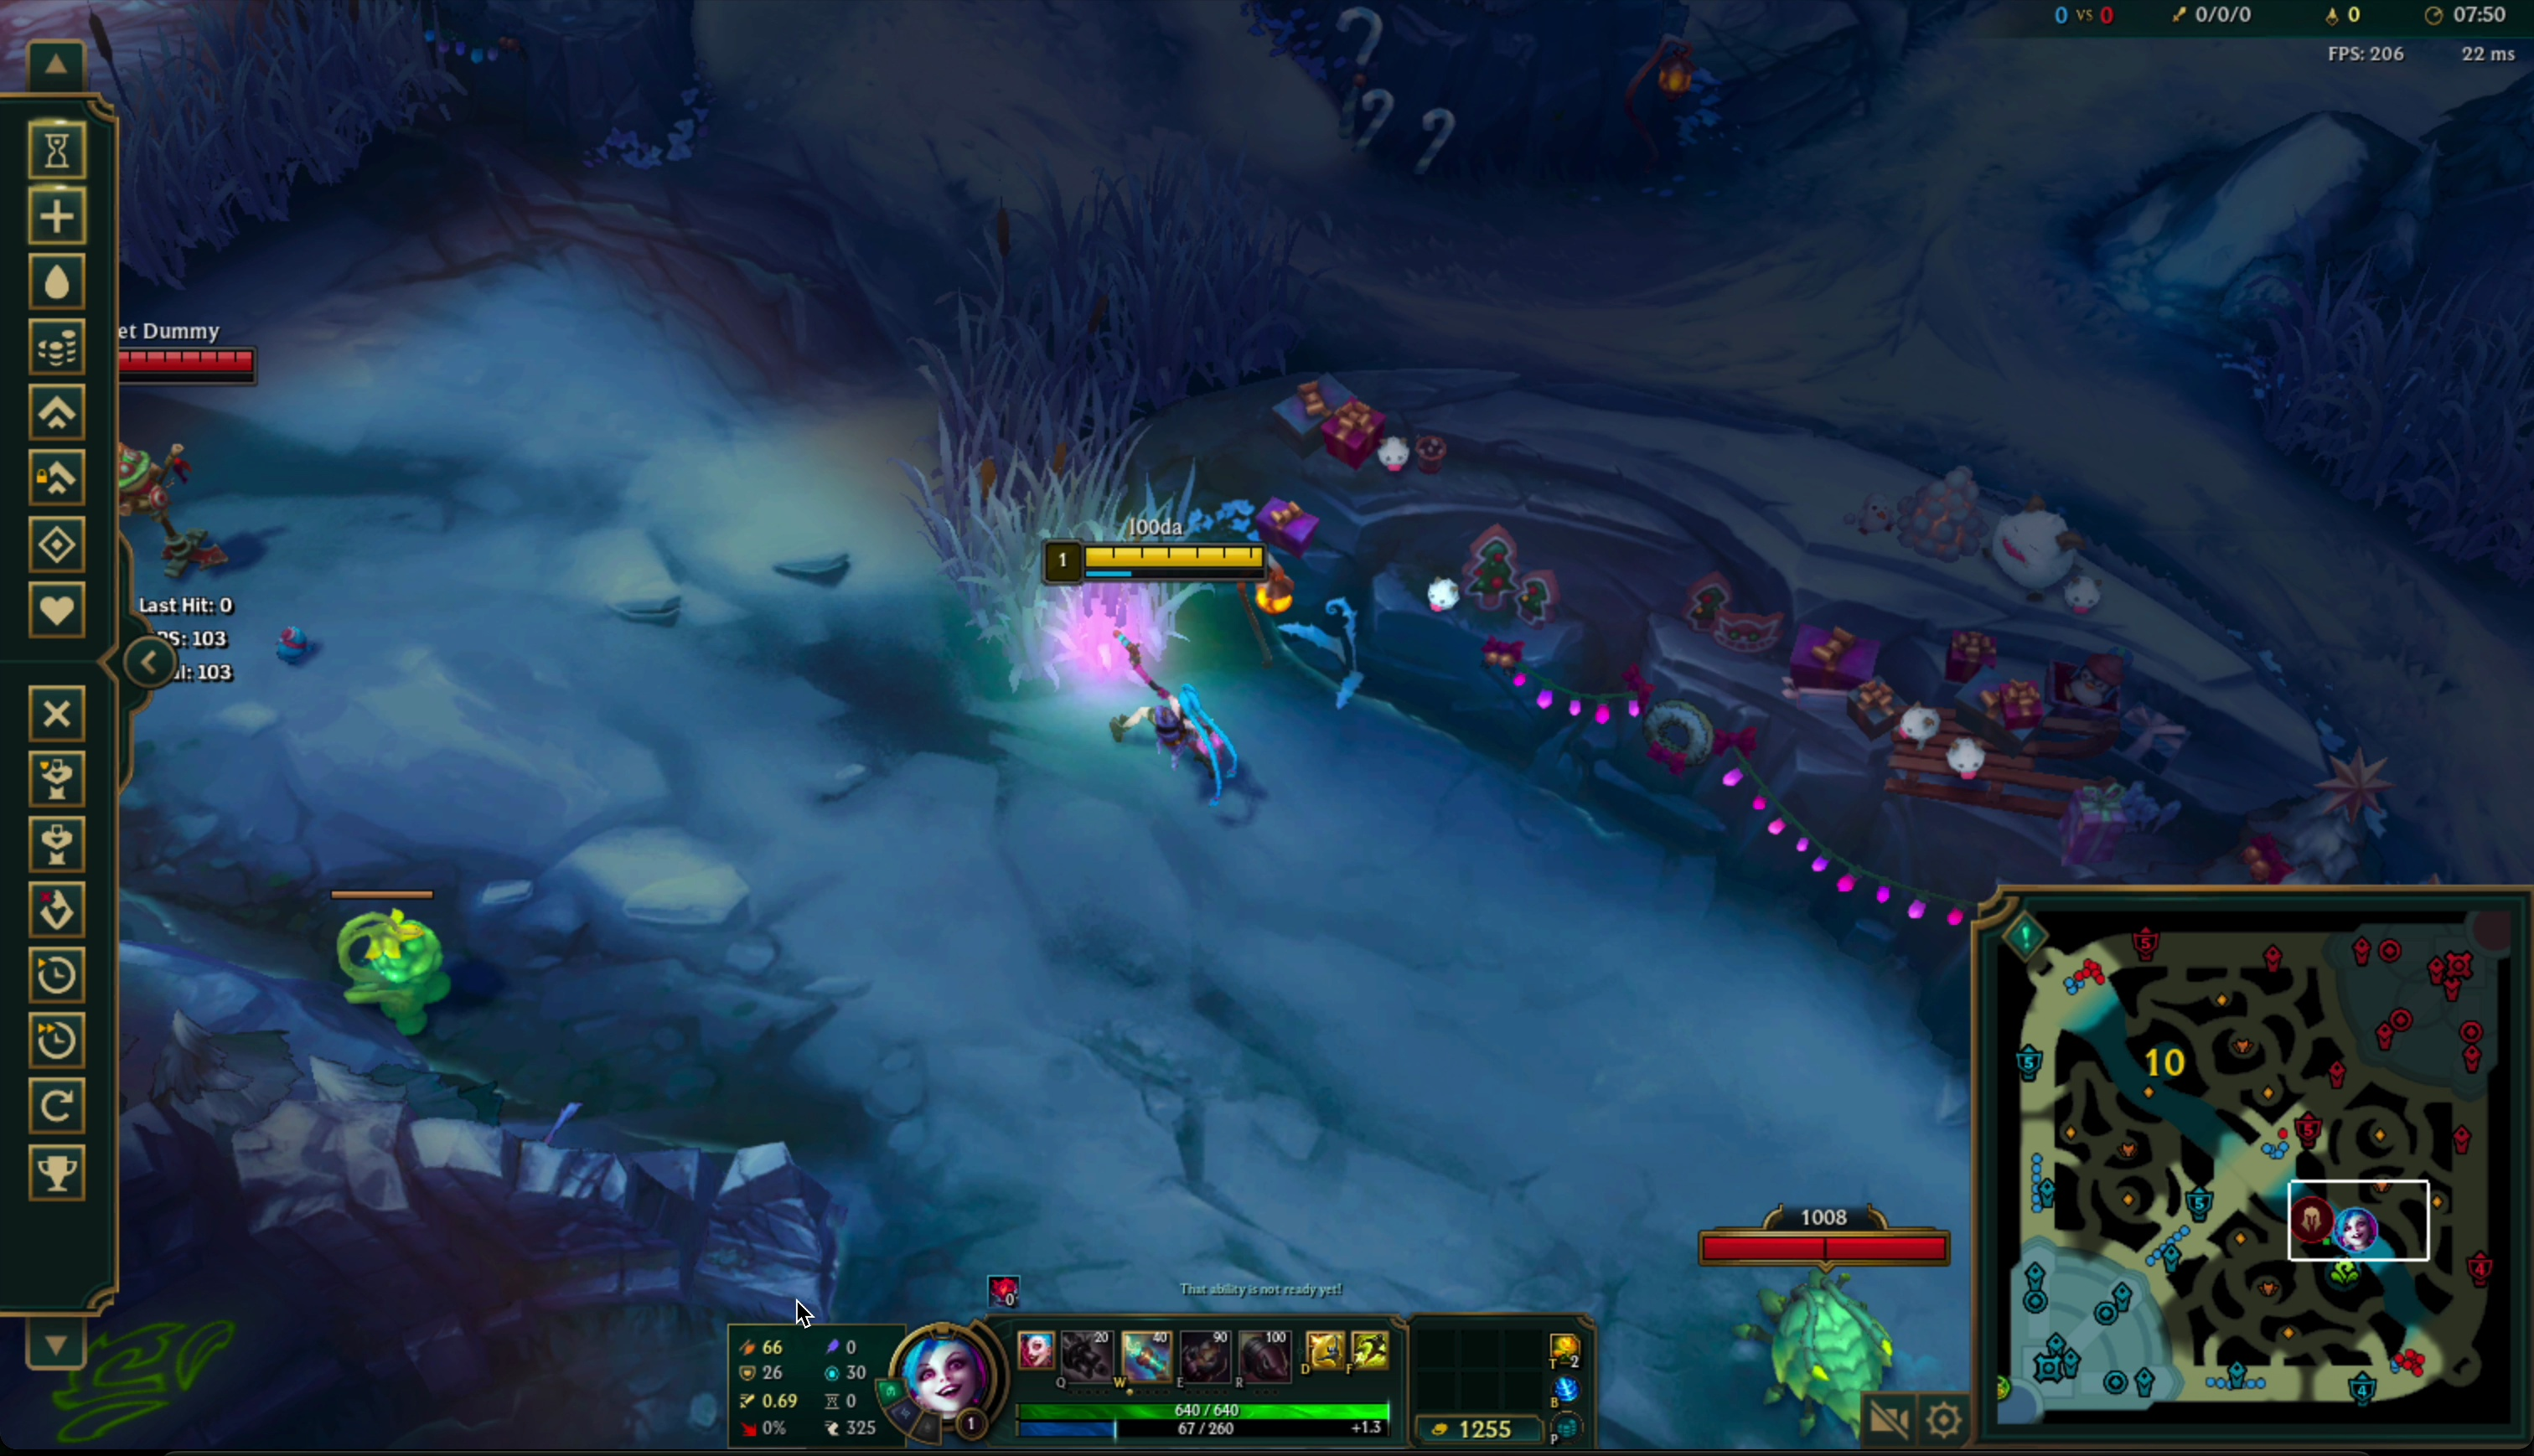JINX_W_PROJECTILE: (943, 508, 1311, 802)
